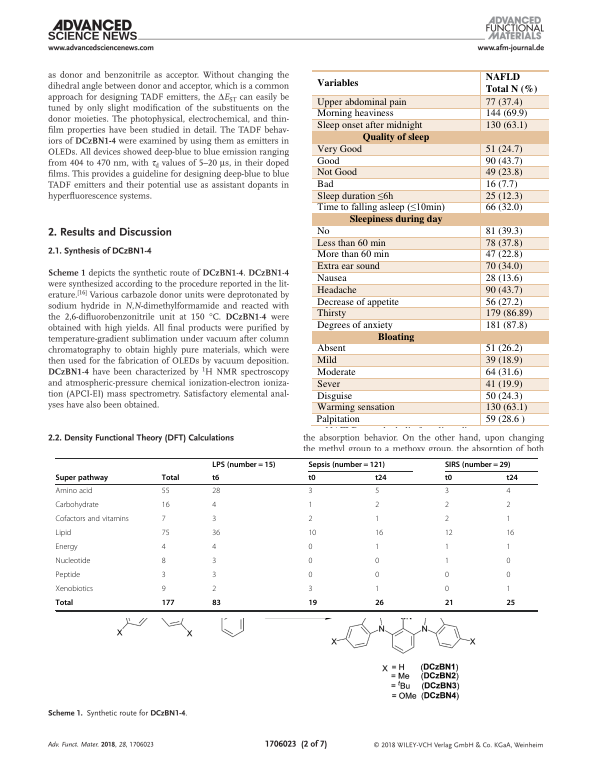borderless: (309, 69, 548, 427), (54, 456, 537, 610)
cell: (316, 200, 445, 215), (316, 119, 423, 132), (484, 71, 538, 96), (348, 213, 443, 226), (316, 96, 407, 109), (316, 189, 394, 204), (316, 295, 399, 309), (316, 401, 395, 414), (316, 107, 394, 120), (316, 319, 393, 332), (316, 248, 389, 261), (316, 237, 386, 250), (361, 131, 430, 144), (316, 260, 380, 273), (55, 514, 130, 524), (307, 460, 386, 469), (484, 307, 533, 320), (444, 460, 511, 469), (316, 143, 362, 156), (315, 413, 360, 426), (211, 460, 276, 469), (484, 107, 528, 120), (484, 119, 528, 132), (484, 319, 528, 332), (484, 401, 528, 414), (316, 77, 359, 90), (484, 154, 523, 168), (484, 295, 523, 309), (376, 330, 415, 344), (484, 389, 523, 403), (55, 473, 109, 483), (316, 166, 357, 179), (316, 284, 357, 297), (484, 413, 525, 426), (316, 366, 356, 379), (316, 389, 353, 403), (484, 96, 523, 109), (484, 143, 523, 156), (484, 166, 523, 179), (484, 190, 523, 203), (484, 201, 523, 214), (484, 225, 523, 238), (484, 237, 523, 250), (484, 248, 523, 261), (484, 260, 523, 273), (484, 272, 523, 285), (484, 284, 523, 297), (484, 342, 523, 355), (484, 354, 523, 367), (484, 366, 523, 379), (484, 378, 523, 391), (55, 500, 100, 510), (484, 178, 518, 191), (316, 272, 347, 285), (316, 307, 347, 320), (316, 342, 346, 355), (55, 584, 94, 594), (55, 486, 93, 496), (55, 556, 91, 566), (316, 154, 340, 168), (316, 378, 340, 391), (316, 354, 337, 367), (55, 570, 81, 580), (316, 178, 334, 191), (55, 542, 78, 552), (161, 473, 180, 483), (55, 598, 74, 608), (316, 225, 330, 238), (55, 528, 72, 538), (374, 473, 388, 483), (505, 473, 519, 483), (161, 598, 175, 608), (211, 598, 222, 608), (307, 598, 318, 608), (374, 598, 385, 608), (505, 598, 516, 608), (211, 486, 221, 496), (211, 528, 221, 538), (307, 528, 317, 538), (374, 528, 384, 538), (444, 528, 454, 538), (505, 528, 515, 538), (444, 598, 454, 608), (211, 473, 220, 483), (307, 473, 316, 483), (444, 473, 453, 483), (161, 486, 170, 496), (161, 500, 170, 510), (161, 528, 170, 538), (307, 486, 313, 496), (374, 486, 380, 496), (444, 486, 450, 496), (505, 486, 511, 496), (211, 500, 217, 510), (307, 500, 313, 510), (374, 500, 380, 510), (444, 500, 450, 510), (505, 500, 511, 510), (161, 514, 167, 524), (211, 514, 217, 524), (307, 514, 313, 524), (374, 514, 380, 524), (444, 514, 450, 524), (505, 514, 511, 524), (161, 542, 167, 552), (211, 542, 217, 552), (307, 542, 313, 552), (374, 542, 380, 552), (444, 542, 450, 552), (505, 542, 511, 552), (161, 556, 167, 566), (211, 556, 217, 566), (307, 556, 313, 566), (374, 556, 380, 566), (444, 556, 450, 566), (505, 556, 511, 566), (161, 570, 167, 580), (211, 570, 217, 580), (307, 570, 313, 580), (374, 570, 380, 580), (444, 570, 450, 580), (505, 570, 511, 580), (161, 584, 167, 594), (211, 584, 217, 594), (307, 584, 313, 594), (374, 584, 380, 594), (444, 584, 450, 594), (505, 584, 511, 594)
